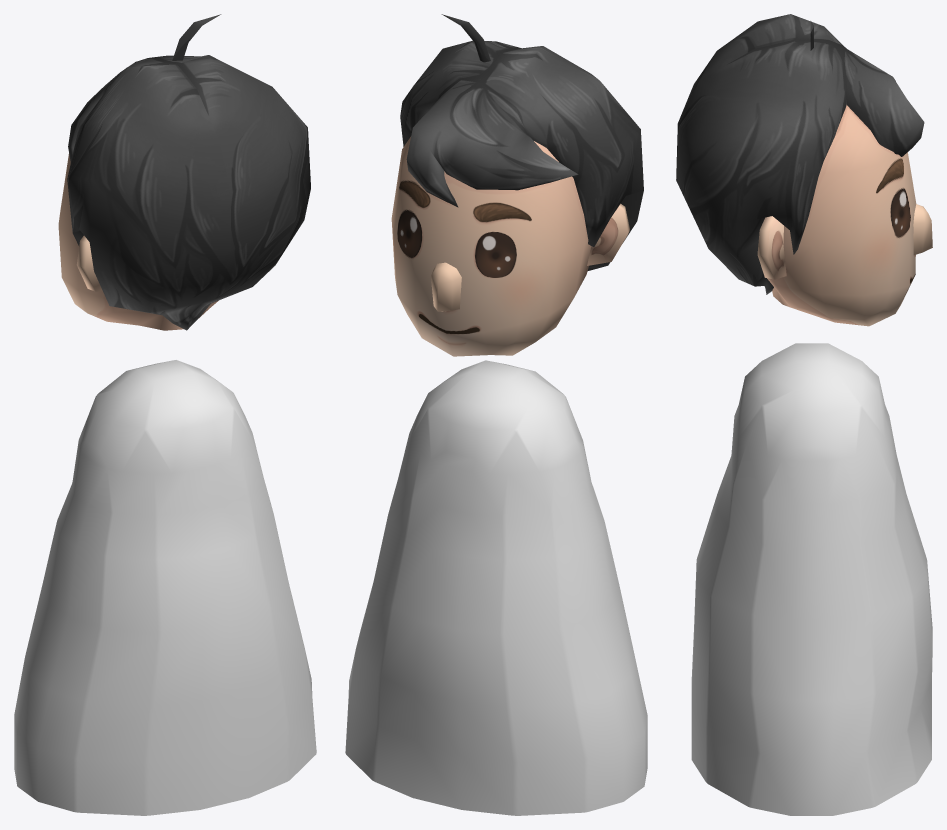
Rendered from curious_boy_3.glb.
3 renders of one model, left to right at view 1: azimuth 30°, elevation 25°; view 2: azimuth 150°, elevation 25°; view 3: azimuth 270°, elevation 25°, orthographic.
Parts seen in each view (by area): view 1: body, head; view 2: body, head; view 3: body, head.
Boxes of the visible parts, box(x1,y1,x2,y2) form: body: box(14, 360, 316, 815); head: box(58, 14, 310, 330); body: box(345, 360, 647, 815); head: box(391, 14, 643, 356); body: box(691, 343, 932, 815); head: box(676, 14, 932, 326).
Size of the model in its own units: 0.4347 by 1.11 by 0.3464.
2 materials, 1 textured.
